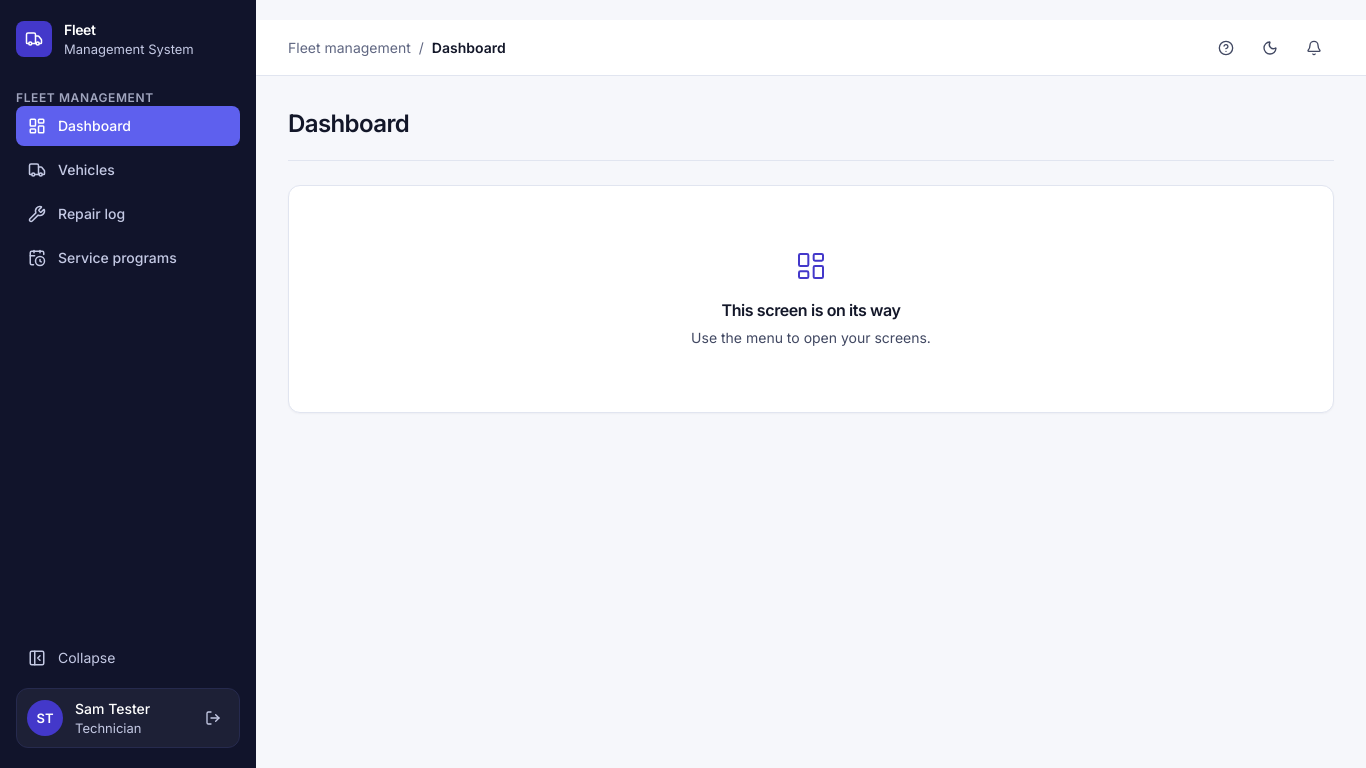
it: the panel › an empty inbox says you are all caught up
The image size is (1366, 768).
Step 1. Click the button named "Notifications" → (1314,48), box [1294,28,1334,68]
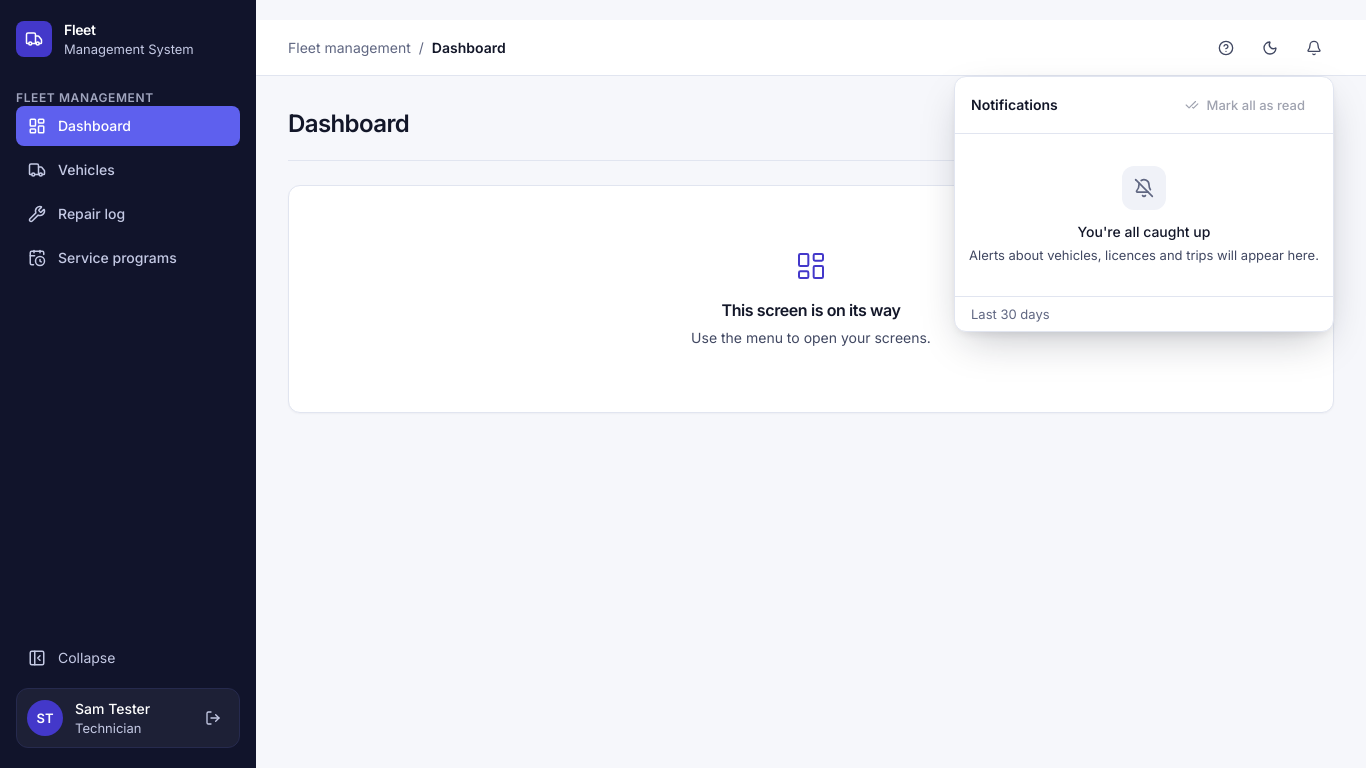
Expected: the text "You're all caught up" is shown, [1078,222,1210,242]
Expected: the button "Mark all as read" is disabled, [1173,88,1317,120]
